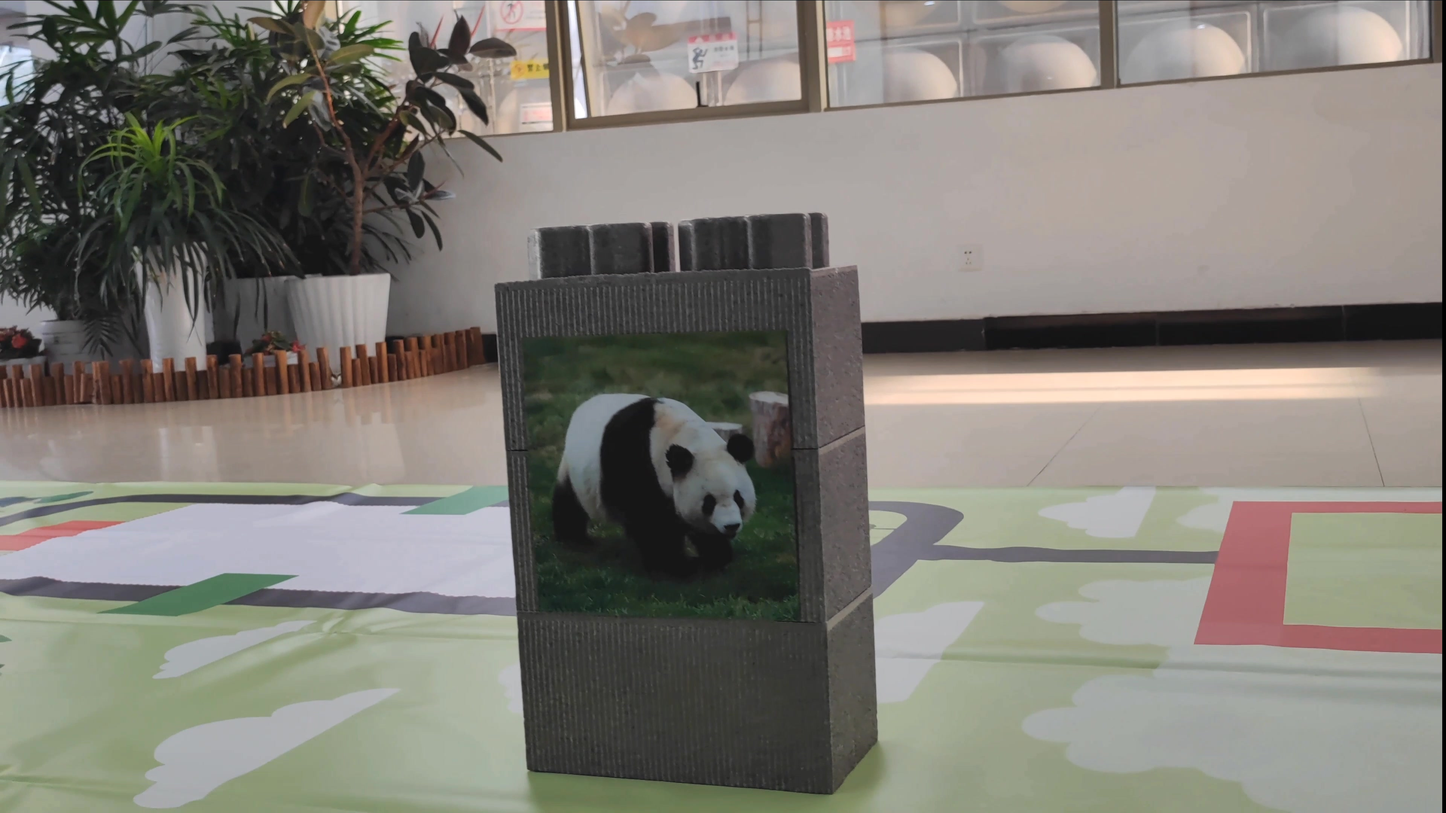panda: (531, 357, 770, 591)
